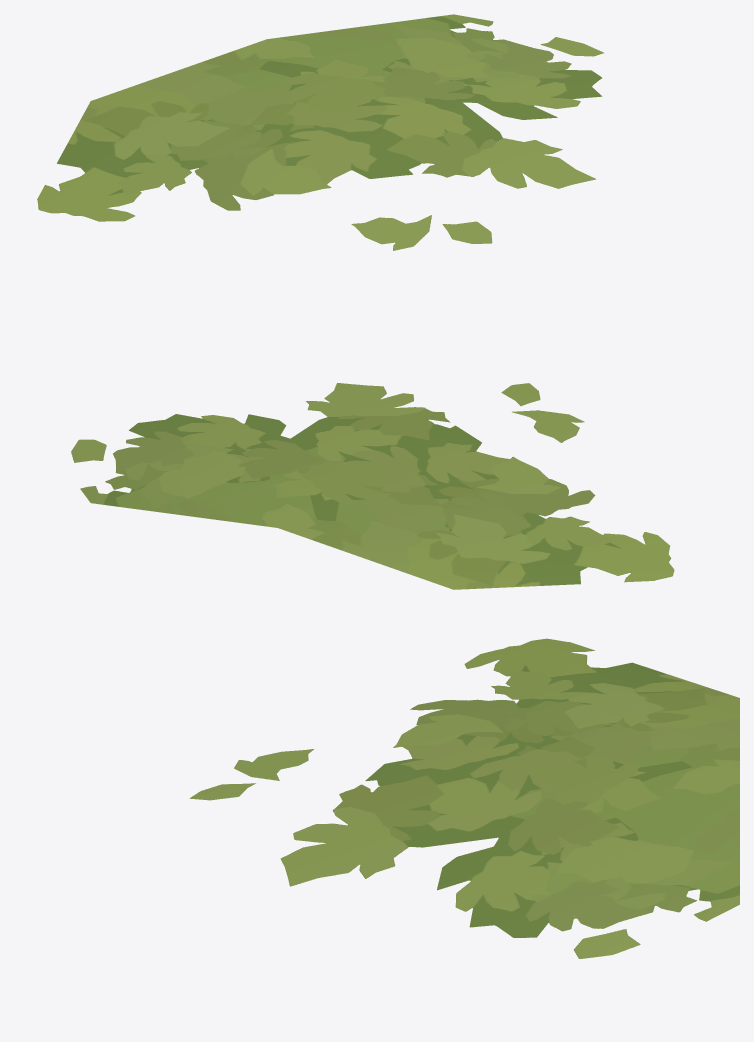
The model's file is SM_Env_Vine_05.fbx.
The picture shows the model from 3 angles, top to bottom: view 1: azimuth 30°, elevation 25°; view 2: azimuth 150°, elevation 25°; view 3: azimuth 270°, elevation 25°; orthographic projection. The views are drawn at different scales.
Parts seen in each view (by area): view 1: SM_Env_Vine_05; view 2: SM_Env_Vine_05; view 3: SM_Env_Vine_05.
Boxes of the visible parts, <box> form: SM_Env_Vine_05: <box>37,14,603,250</box>; SM_Env_Vine_05: <box>71,383,674,589</box>; SM_Env_Vine_05: <box>189,638,739,958</box>.
Bounding box in the file's own units: 177 × 8.97 × 133.
